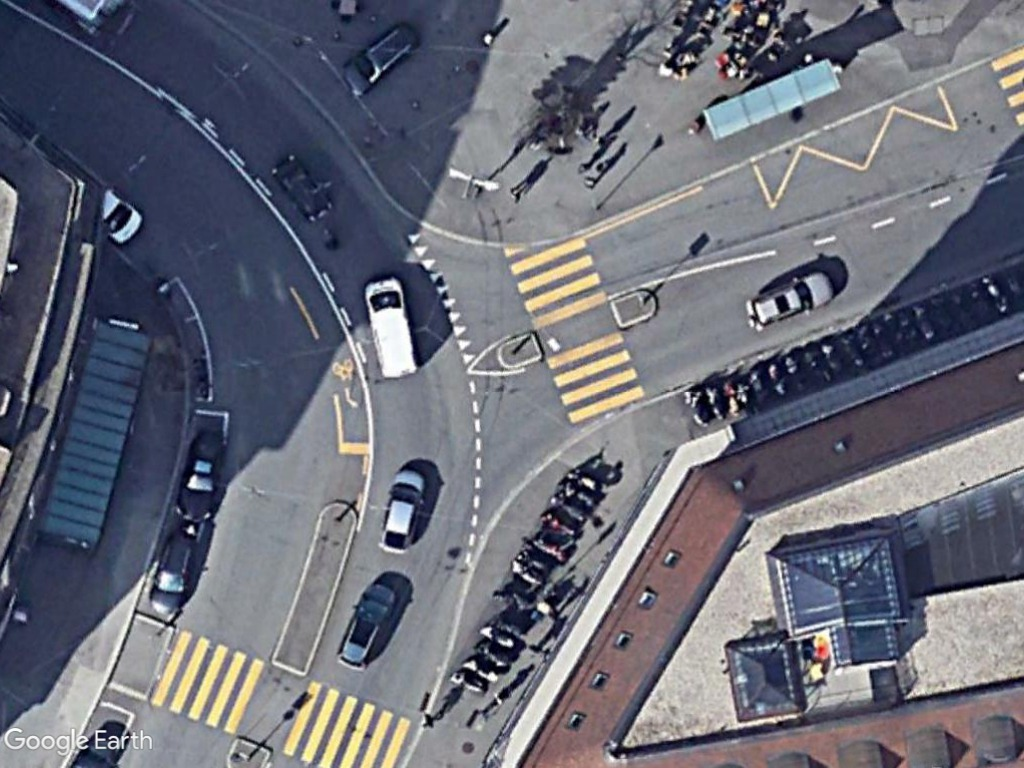car: (334, 579, 399, 673), (341, 23, 418, 96), (744, 270, 837, 330), (376, 466, 433, 556), (146, 531, 200, 619)
van: (362, 275, 421, 382)
